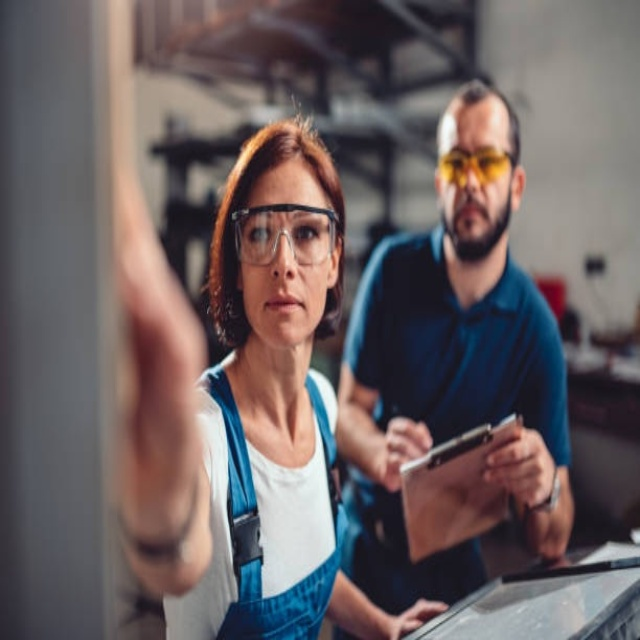Gafas: (232, 207, 340, 267), (437, 147, 515, 187)
Sin_guantes: (483, 420, 554, 517), (377, 413, 433, 492), (389, 597, 451, 639)
Sin_mascara: (257, 284, 311, 337), (450, 191, 493, 240)
